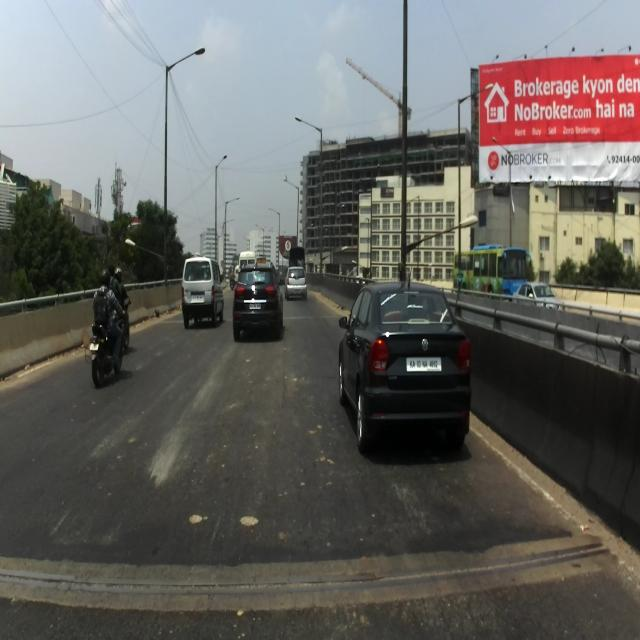Car_Hyundai: (229, 259, 285, 341)
Car_Maruti-Suzuki: (181, 254, 223, 329)
Car_Volkswagen: (338, 266, 474, 450)
motorcycle_Yamaha: (84, 306, 129, 388)
